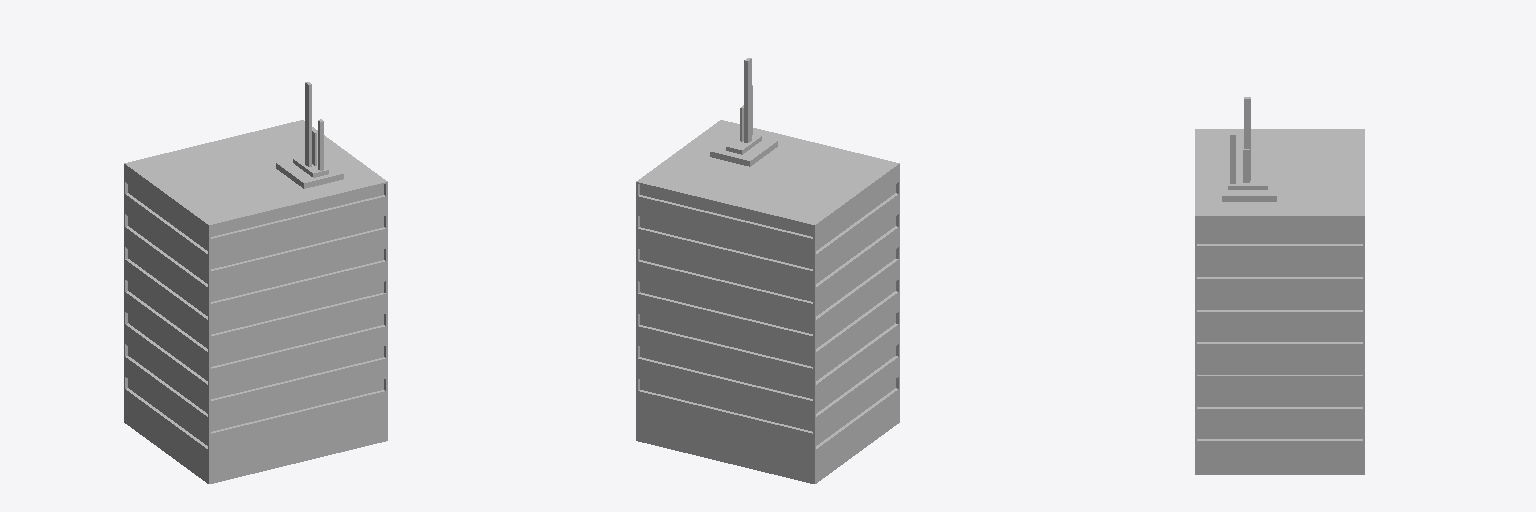
Rendered from SkyScraper1.obj.
3 views of the same model, side by side, from view 1: azimuth 30°, elevation 25°; view 2: azimuth 150°, elevation 25°; view 3: azimuth 270°, elevation 25° (orthographic).
Visible parts, largest first — view 1: Cube; view 2: Cube; view 3: Cube.
Boxes of the visible parts, <box> form: Cube: <box>124,82,387,483</box>; Cube: <box>636,58,899,483</box>; Cube: <box>1195,97,1364,474</box>.
Size of the model in its own units: 2.92 by 5.48 by 2.4.